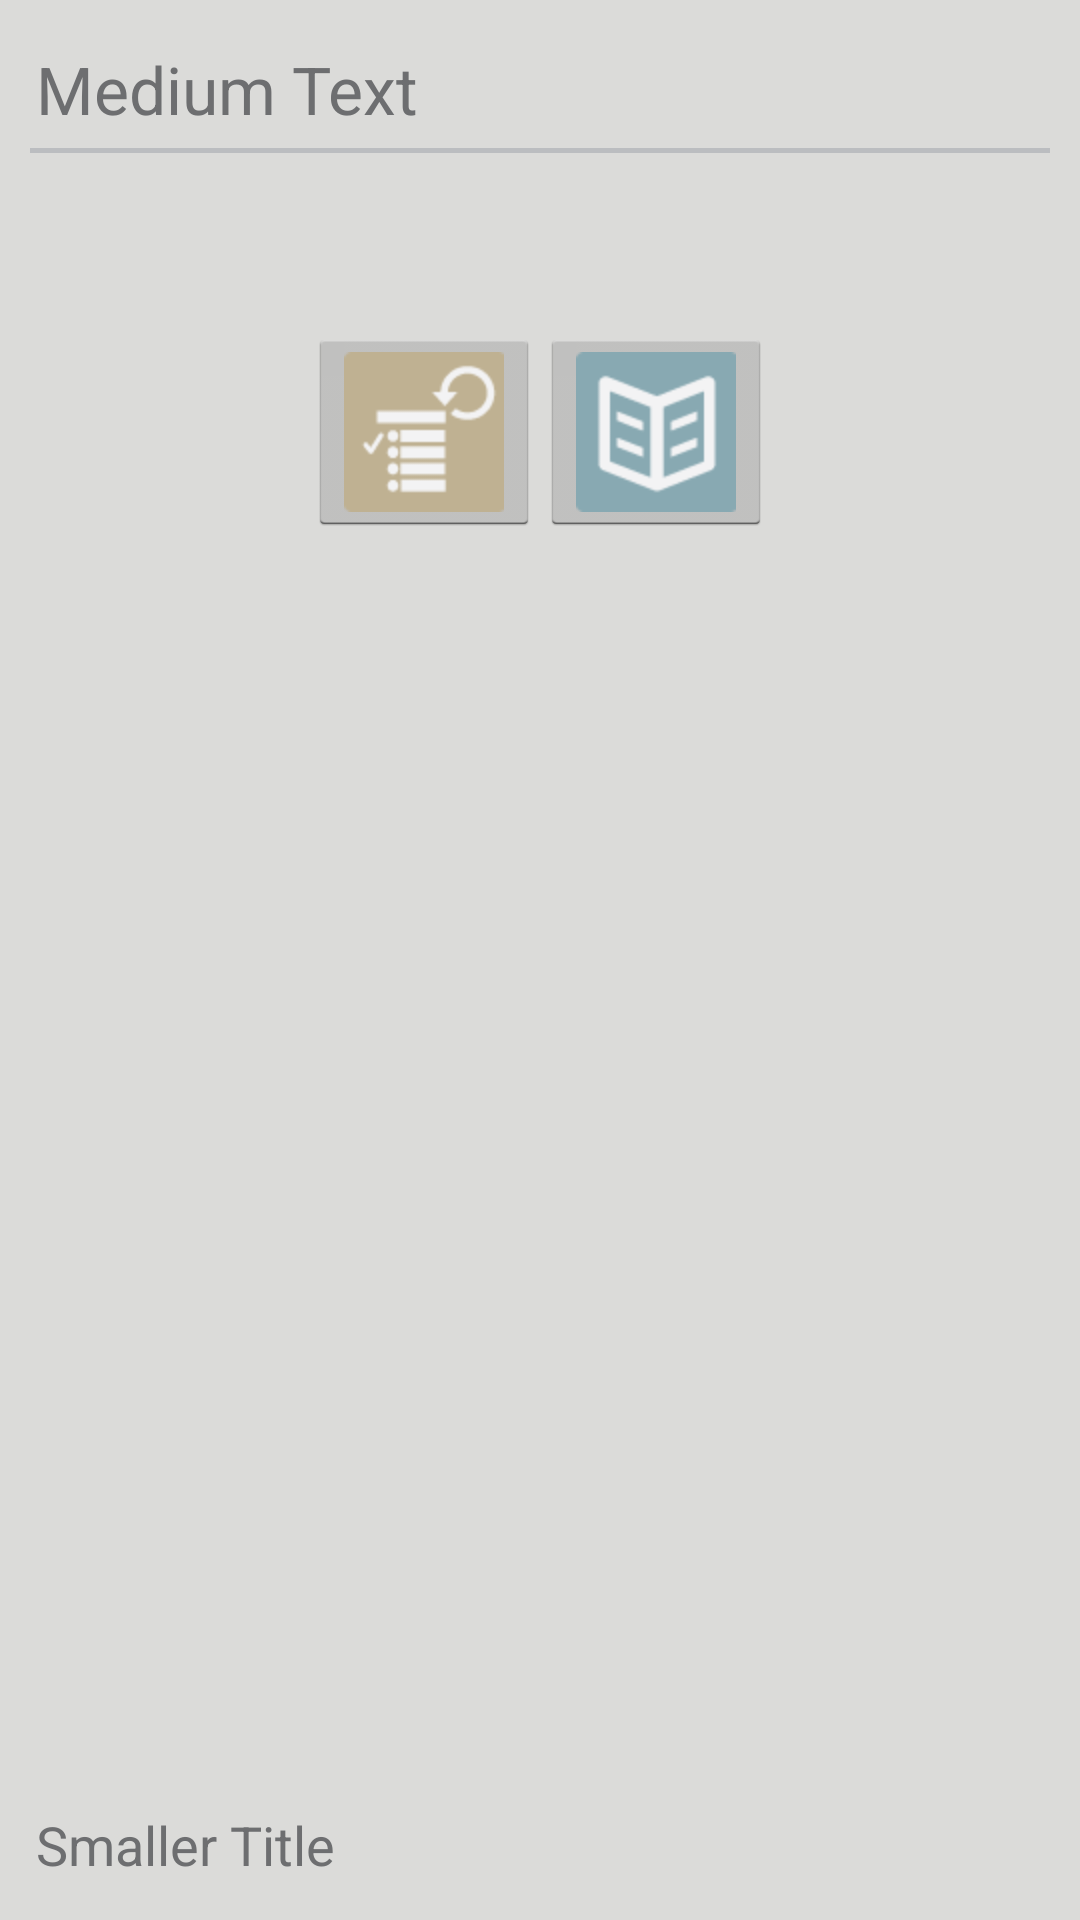

Icon click points for this 1080x1920 phone screenshot, format (x=x, y=y):
Courses: (x=656, y=433)
Retake Quiz: (x=424, y=433)
